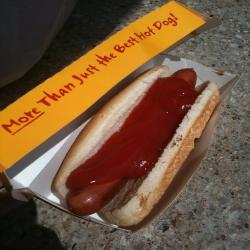hotdog: (46, 60, 223, 225)
